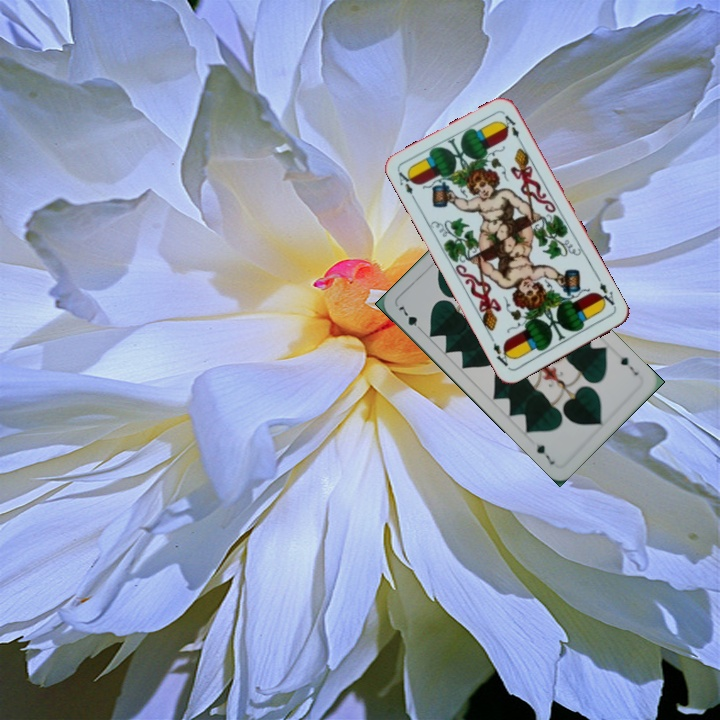EA: (394, 167, 419, 205), (593, 279, 618, 311)
G7: (394, 302, 426, 335), (616, 352, 641, 378)
